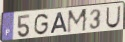3: (89, 8, 103, 30)
5: (16, 14, 31, 39)
A: (50, 11, 69, 35)
G: (33, 13, 50, 36)
M: (66, 8, 89, 35)
U: (105, 6, 122, 30)
